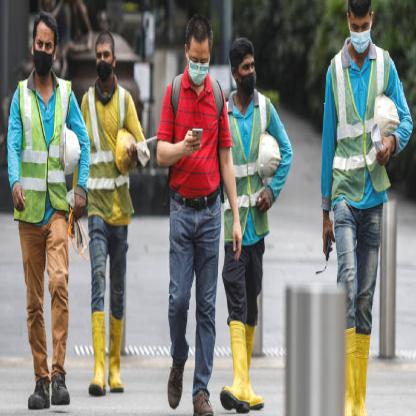person: (322, 0, 411, 415), (0, 15, 87, 415), (157, 16, 231, 415), (214, 35, 286, 415), (76, 30, 144, 394)
